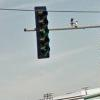Traffic light: (26, 0, 54, 72)
